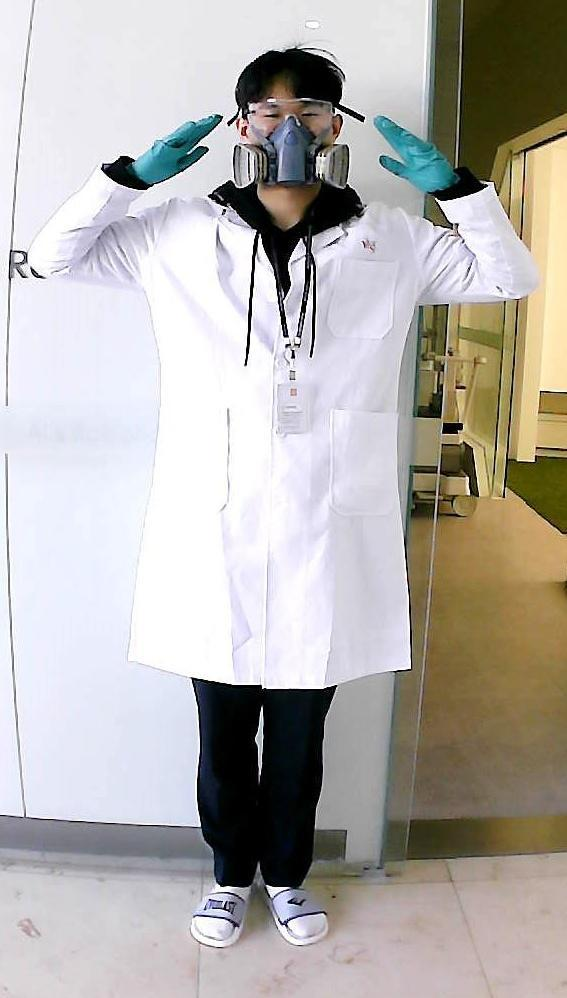lab_coat: (123, 216, 424, 671)
